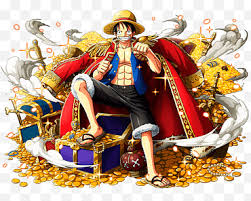luffy: (102, 9, 146, 48)
